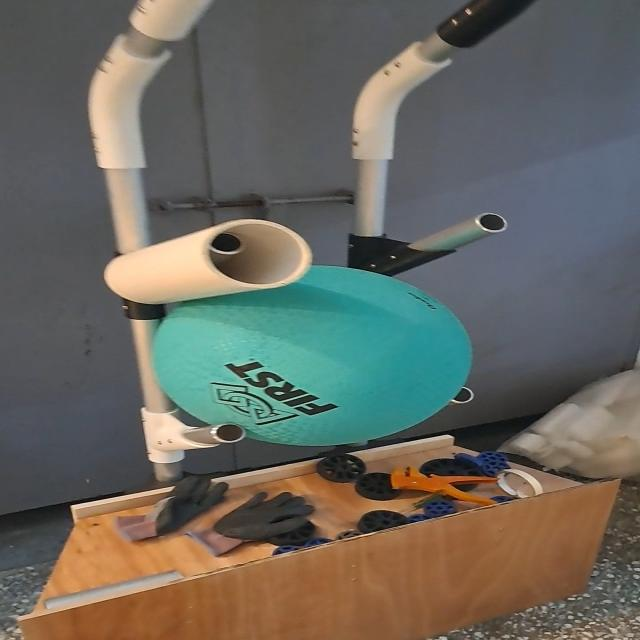ALGAE: (148, 263, 475, 447)
CORAL: (96, 218, 315, 308)
